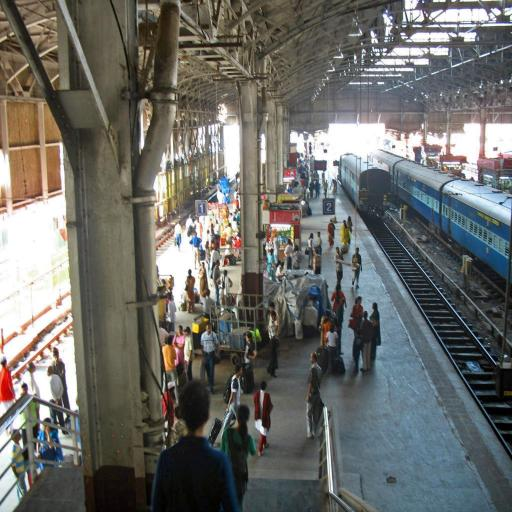platform_edge: (365, 226, 512, 512)
